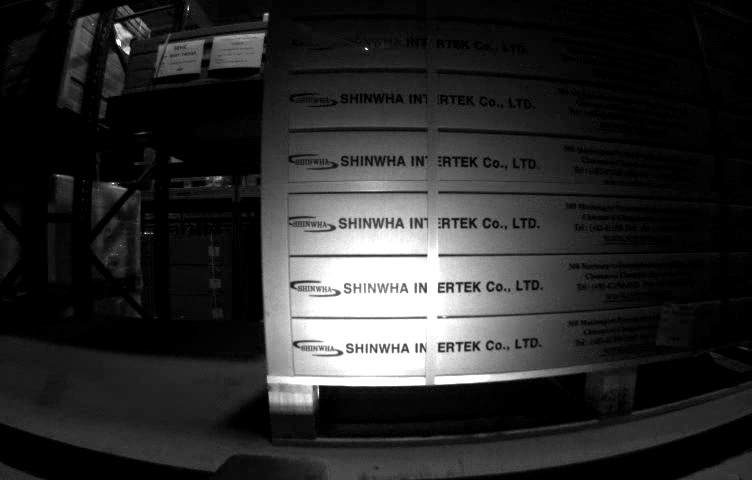True Barcode: (655, 306, 693, 343)
